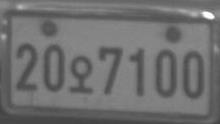0: (181, 49, 205, 99), (154, 48, 177, 98), (43, 42, 65, 91)
1: (126, 47, 151, 97)
2: (15, 42, 39, 90)
7: (97, 46, 124, 96)
오: (69, 55, 93, 94)
